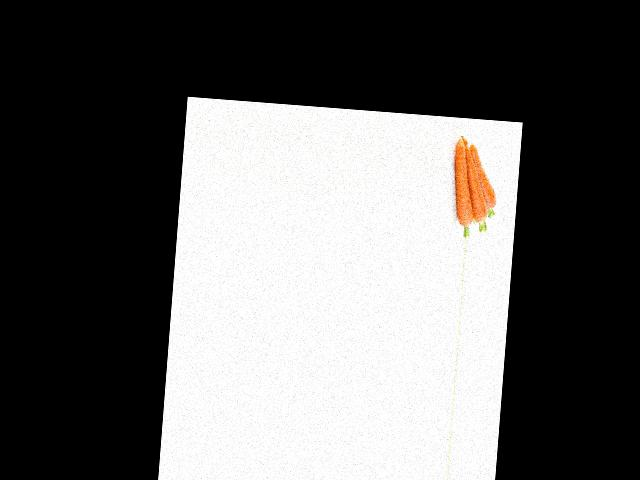carrot: (450, 139, 476, 232)
